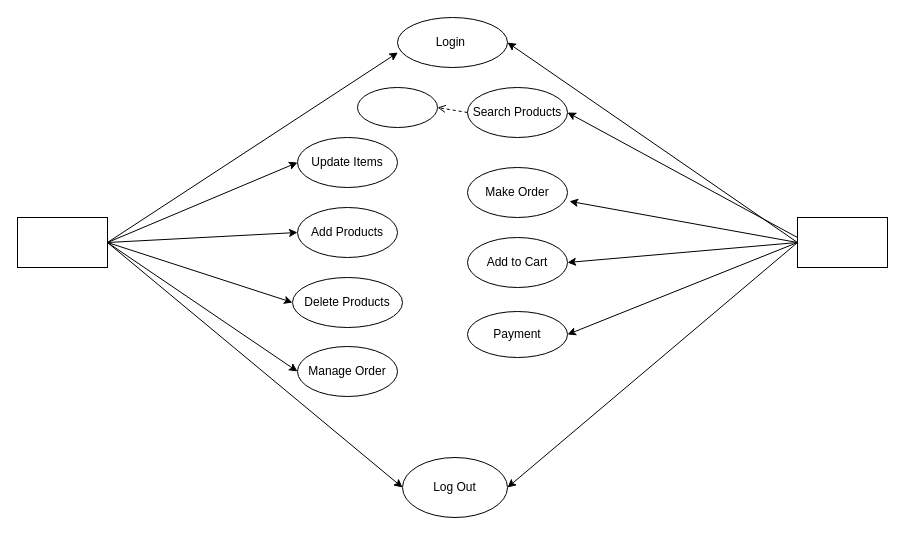
The diagram is 905 pixels wide and 535 high, and some of its shapes have lost their labels. The shapes that lost their labels are listed below. From the top down, each one's centre as x and y in pixels, then its label:
(397,107): Filter
(62,242): Admin
(842,242): User
